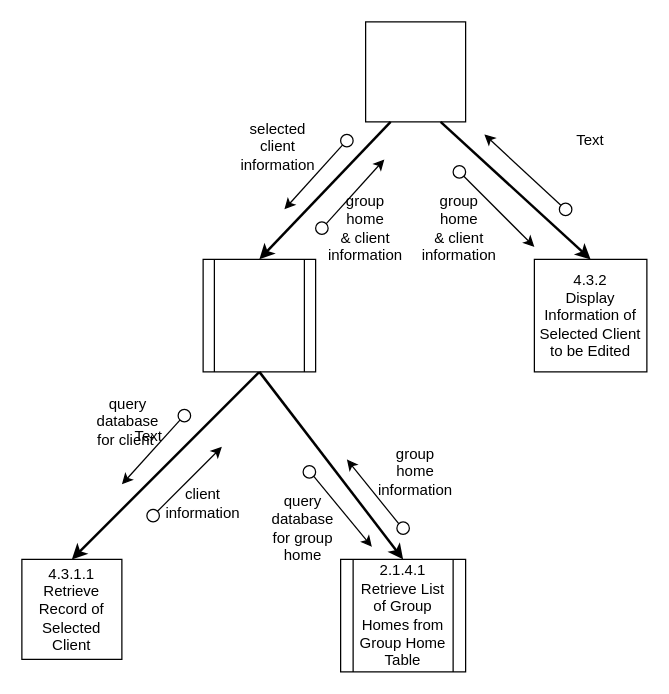
Some shapes in this 669 by 694 pixel diagram are drawn without their labels. The shapes that lost their labels are listed below. From the top down, each one's box as (x1, y1, x2, y2) in pixels, then its label:
(364, 21, 466, 122): 4.3 Retrieve Client Information
(202, 258, 316, 372): 1.1.4 Get Required Information from Database
